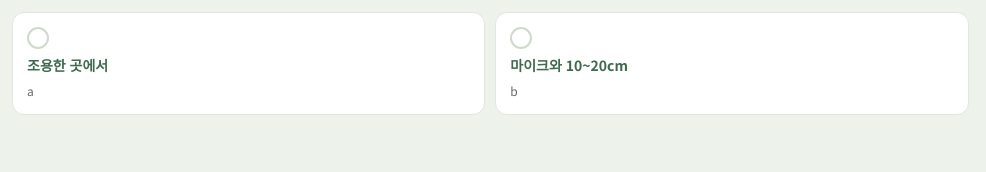
Test: GuideChecklist — 눌러서 확인 표시 › 누르면 확인됨(연한 초록), 다시 누르면 해제되고 다른 항목은 그대로
This screenshot has width=986, height=172.
Click the button "조용한 곳에서 a" at (68, 65), box left=12, top=12, right=485, bottom=115
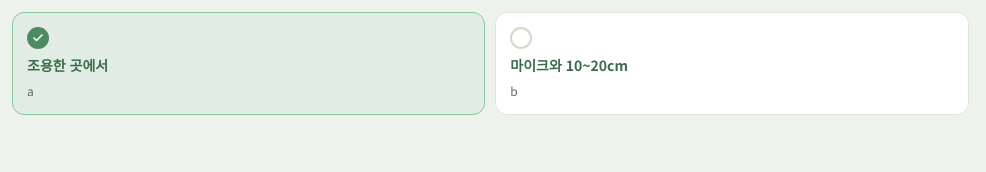
Check: the button "조용한 곳에서 a" is pressed
Click the button "조용한 곳에서 a" at (68, 65), box left=12, top=12, right=485, bottom=115
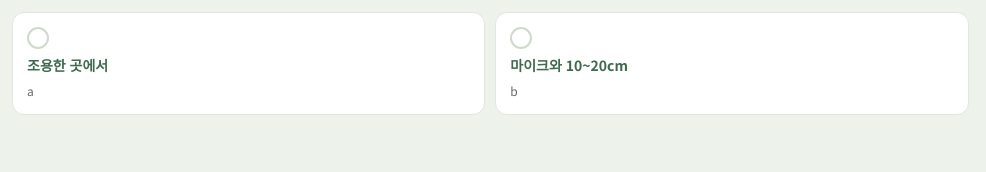
Check: the button "조용한 곳에서 a" is not pressed, box left=12, top=12, right=485, bottom=115
